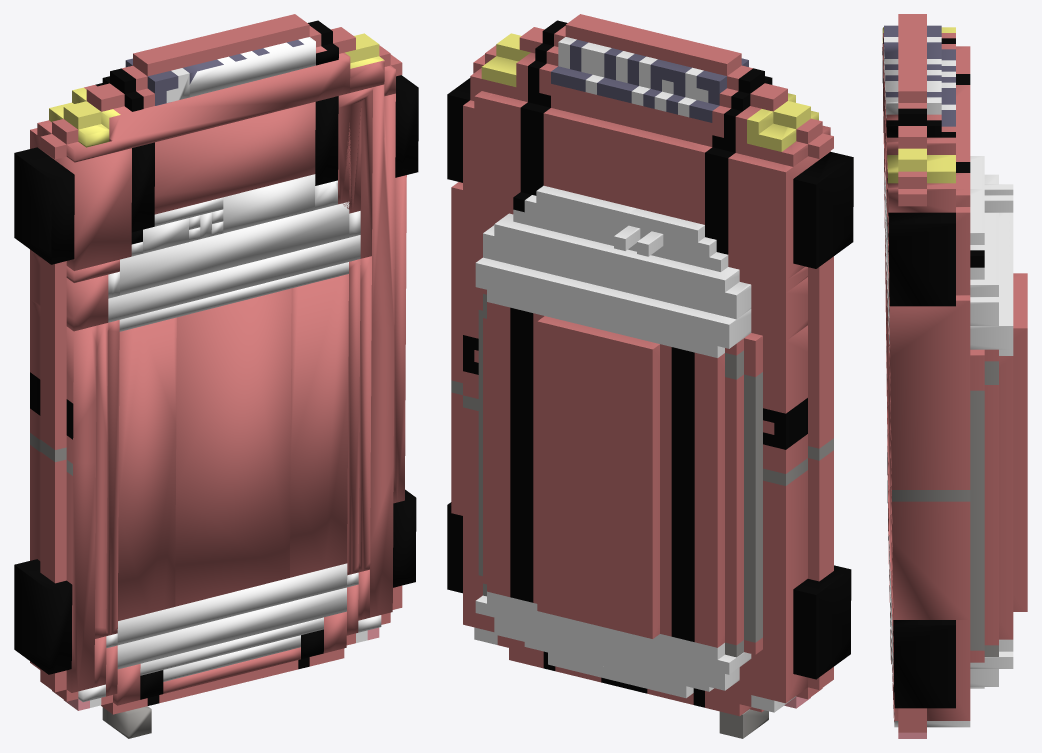
File: cuntcarfin.glb
3 renders of one model, left to right at view 1: azimuth 30°, elevation 25°; view 2: azimuth 150°, elevation 25°; view 3: azimuth 270°, elevation 25°, orthographic. The views are drawn at different scales.
Visible parts, largest first — view 1: Cunt Car.001; view 2: Cunt Car.001; view 3: Cunt Car.001.
Part boxes in pixels (x1=…): Cunt Car.001: x1=14, y1=14, x2=418, y2=738; Cunt Car.001: x1=447, y1=14, x2=853, y2=738; Cunt Car.001: x1=882, y1=14, x2=1027, y2=738.
Bounding box in the file's own units: 32 × 55 × 11.13.
